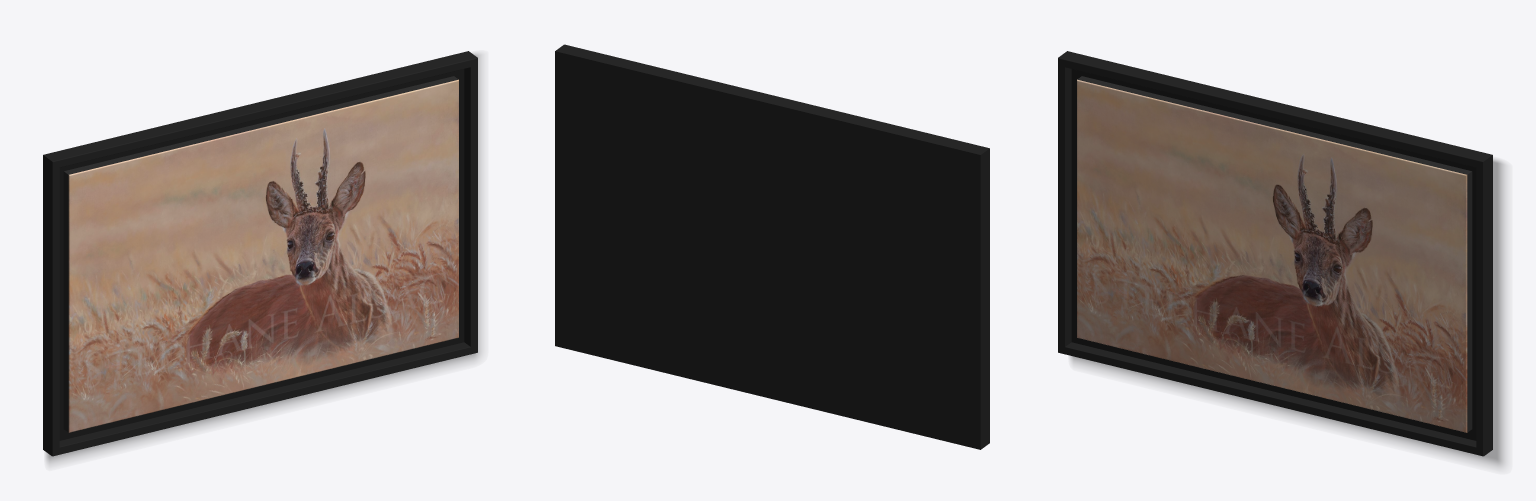
Rendered from peinture-brocard-ete-grand-328ed142.glb.
The picture shows the model from 3 angles, left to right: view 1: azimuth 30°, elevation 25°; view 2: azimuth 150°, elevation 25°; view 3: azimuth 330°, elevation 25°; orthographic projection.
Visible parts, largest first — view 1: Painting; view 2: Painting; view 3: Painting.
Boxes of the visible parts, x1,y1,x2,y2 form: Painting: [43, 51, 480, 463]; Painting: [555, 44, 989, 449]; Painting: [1058, 51, 1504, 466].
Size of the model in its own units: 1.18 by 0.826 by 0.04.
5 materials, 3 textured.
